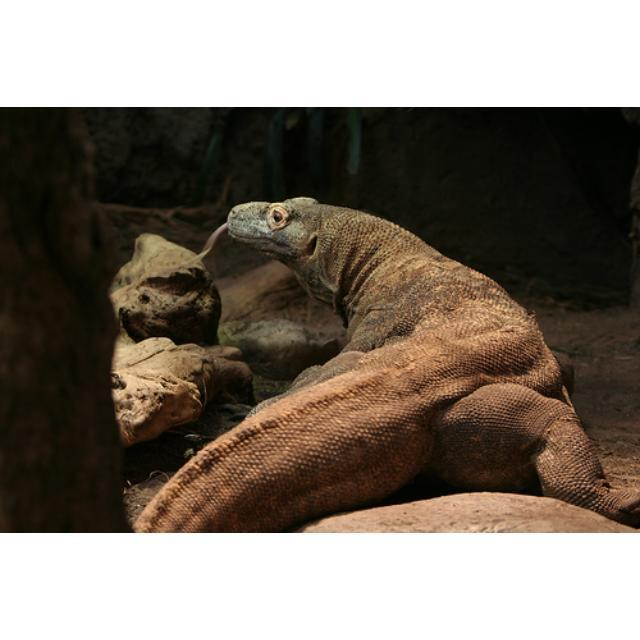KomodoDragon: (129, 194, 637, 530)
